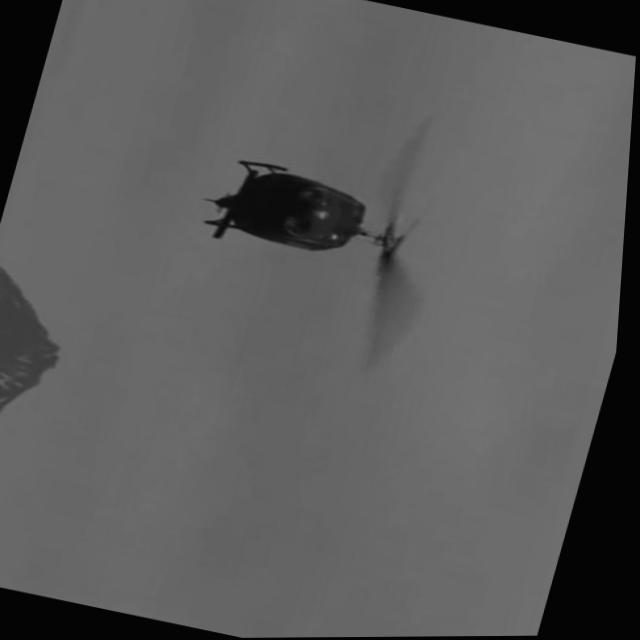helikopter: (161, 104, 457, 332)
